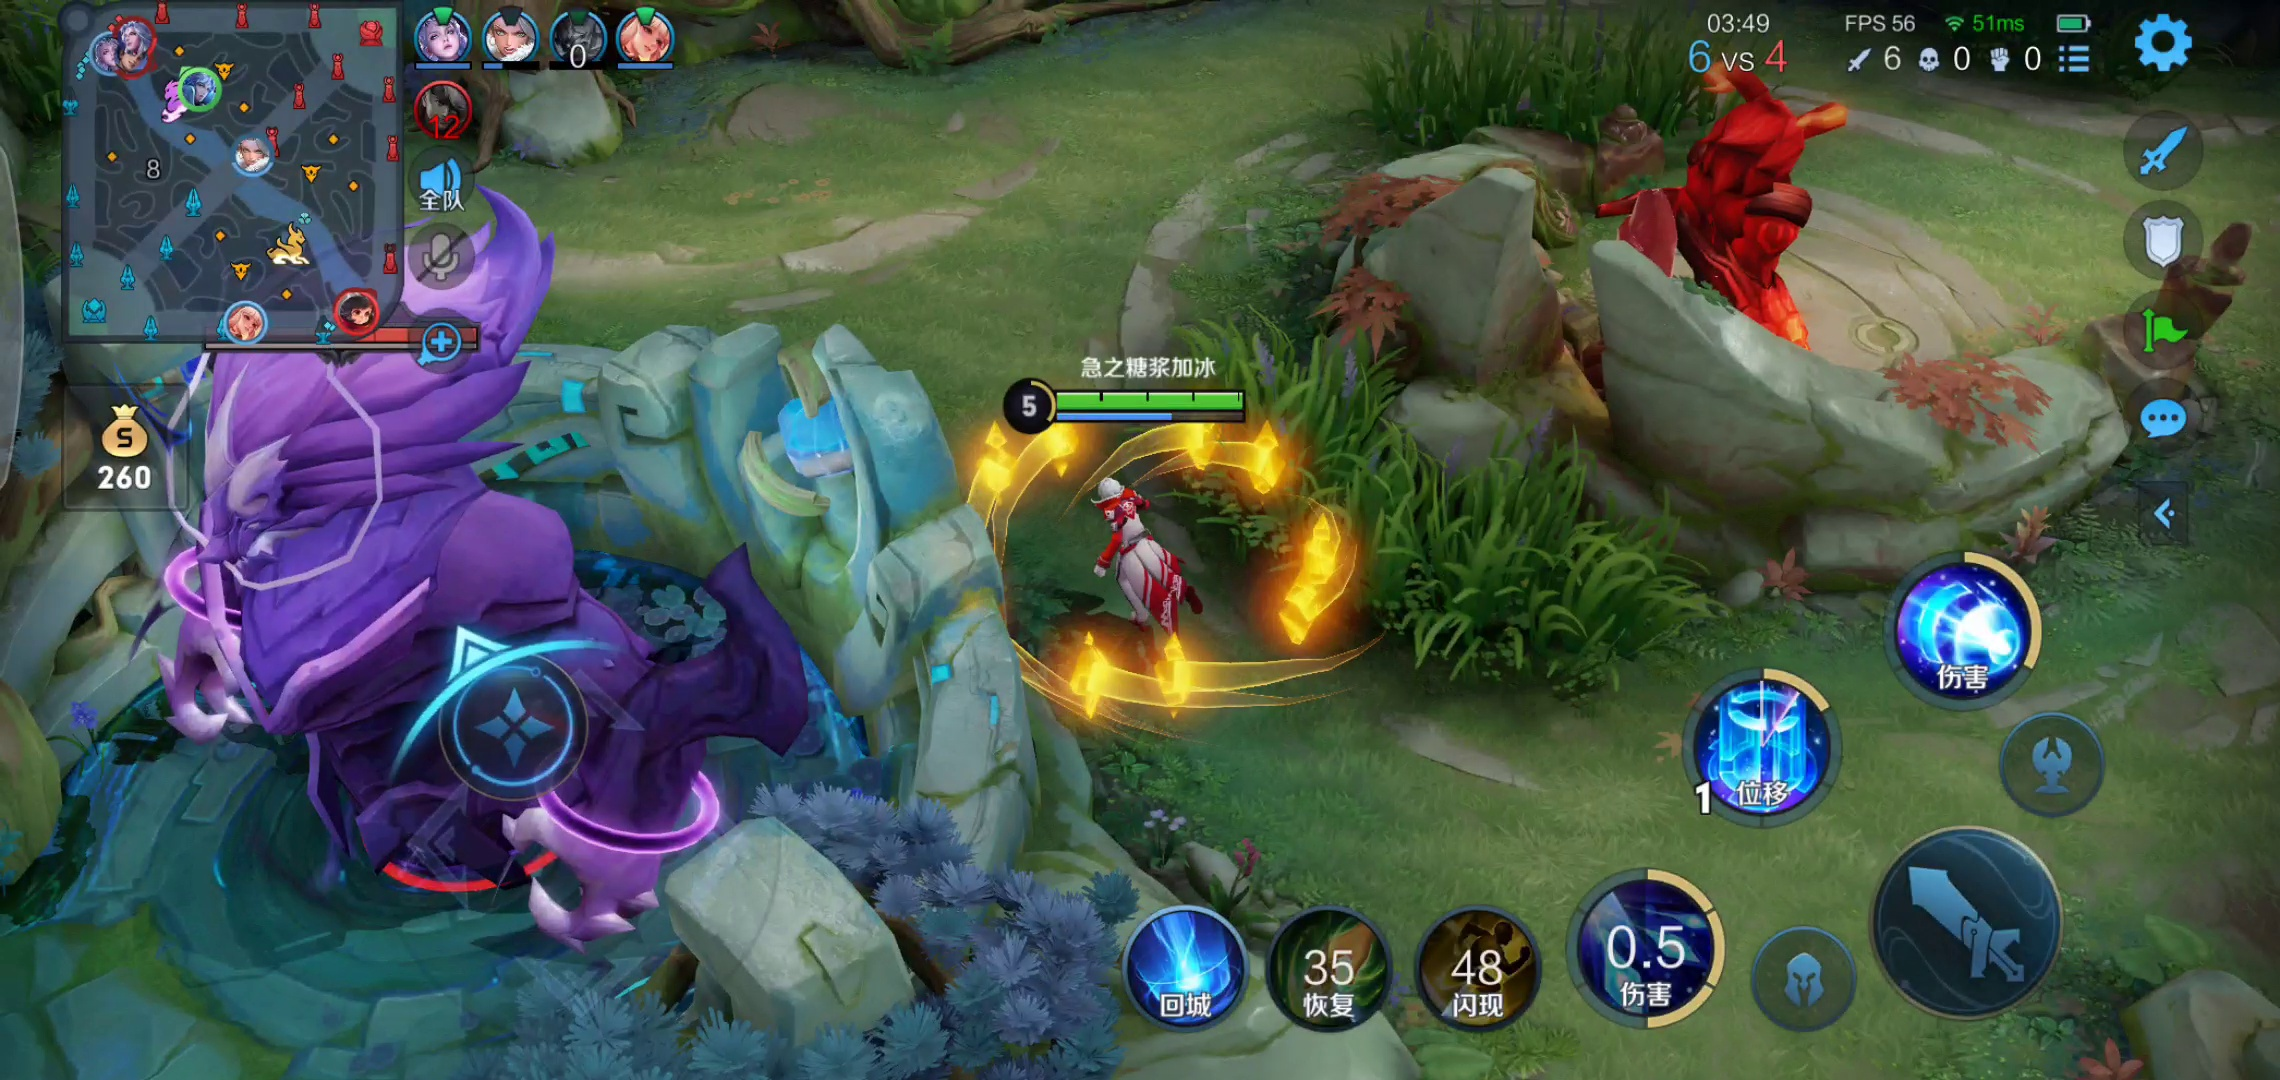buff: (1636, 96, 1823, 347)
dragon: (145, 294, 803, 962)
grass: (1171, 329, 1661, 688), (1349, 19, 1735, 121)
hero: (1083, 475, 1229, 648)
